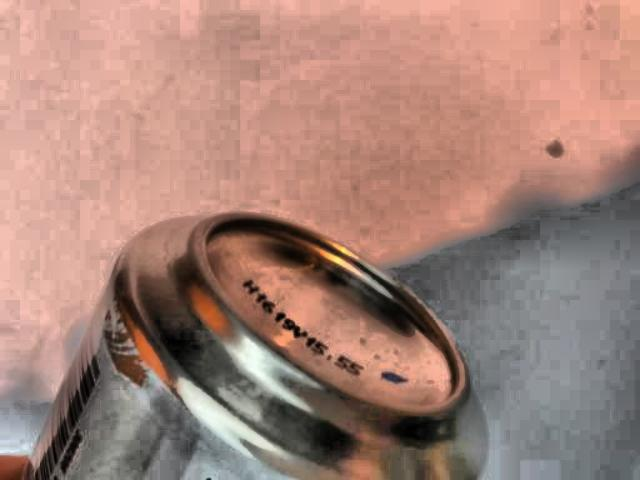Bottles: (0, 188, 490, 480)
